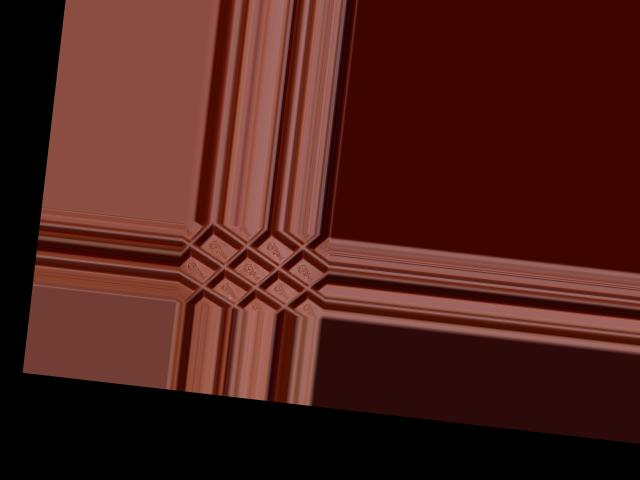chocolate: (176, 218, 327, 315)
